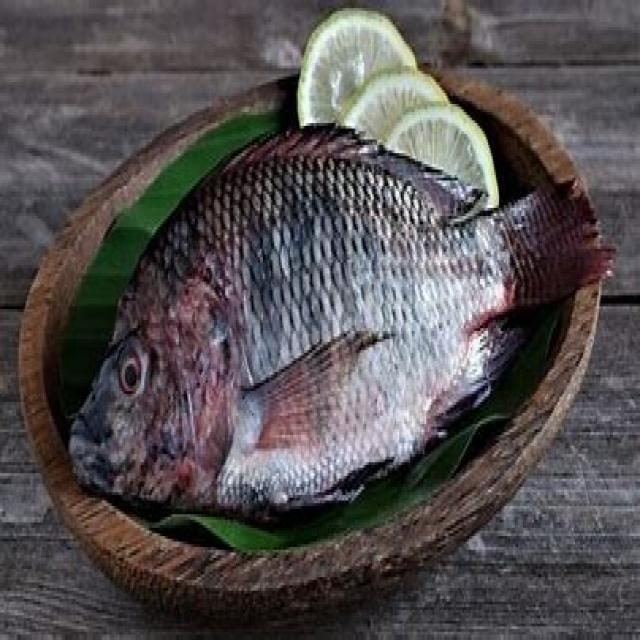Tilapia: (67, 128, 608, 508)
